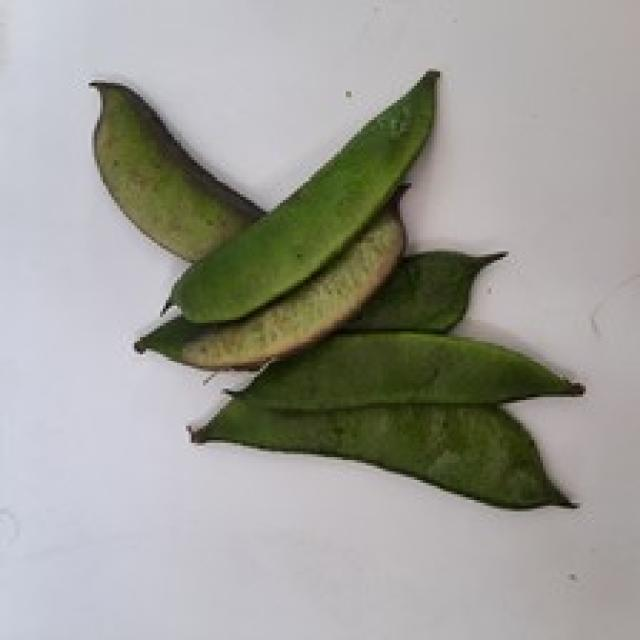Bean: (157, 66, 440, 326), (134, 180, 409, 371), (86, 77, 266, 263)
